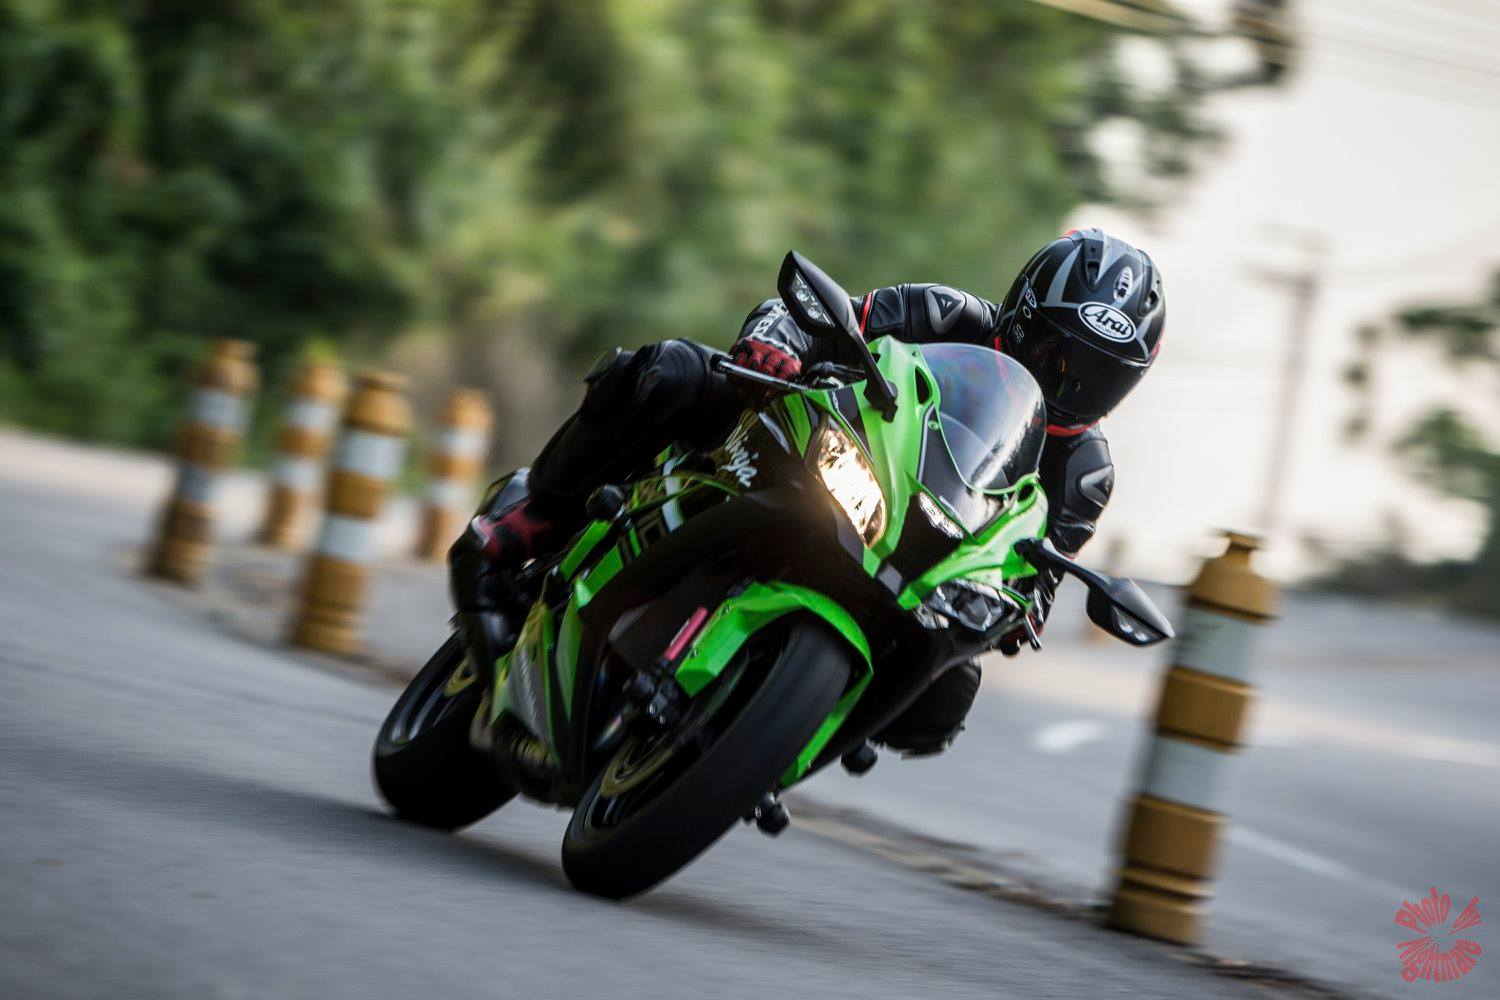helmet: (997, 223, 1174, 419)
